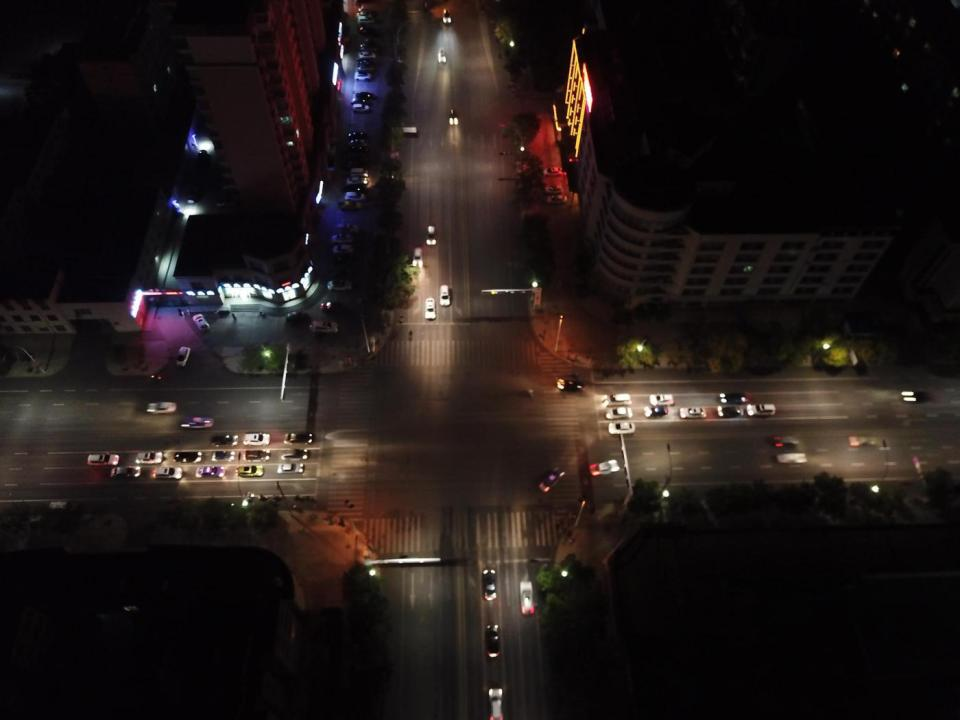car: (539, 467, 564, 492), (588, 459, 620, 476), (488, 688, 504, 720), (485, 624, 500, 658), (520, 581, 535, 615), (482, 568, 497, 600), (87, 452, 119, 465), (719, 392, 750, 405), (135, 451, 164, 464), (602, 393, 631, 406), (243, 432, 269, 446), (557, 378, 585, 391), (110, 466, 140, 478), (152, 467, 182, 479), (281, 449, 311, 461), (192, 312, 210, 332), (777, 452, 807, 464), (605, 406, 632, 419), (717, 405, 744, 418), (310, 321, 339, 333), (901, 391, 930, 403), (180, 417, 214, 427), (174, 451, 202, 463), (146, 402, 176, 413), (195, 466, 225, 477), (284, 433, 314, 444), (212, 434, 239, 446), (608, 422, 635, 434), (848, 436, 877, 447), (649, 393, 673, 406), (680, 407, 706, 419), (774, 436, 798, 449), (277, 463, 305, 474), (176, 345, 190, 367), (747, 404, 775, 415), (237, 466, 264, 477), (286, 311, 310, 323), (243, 450, 271, 460), (334, 223, 359, 234), (186, 186, 202, 203), (211, 450, 235, 461), (196, 150, 208, 172), (644, 406, 668, 417), (332, 244, 354, 255), (331, 233, 353, 244), (320, 301, 342, 312), (439, 284, 450, 306), (425, 298, 436, 320), (331, 257, 353, 268), (338, 200, 361, 210), (327, 281, 352, 290), (344, 192, 366, 202), (216, 190, 228, 207), (426, 225, 436, 245), (413, 247, 423, 267), (354, 71, 372, 82), (543, 167, 563, 176), (546, 195, 566, 204), (331, 271, 351, 280), (448, 109, 459, 125), (346, 177, 367, 185), (352, 103, 370, 112), (350, 168, 368, 177), (356, 91, 376, 99), (348, 138, 368, 146), (344, 184, 364, 192), (544, 186, 563, 194), (349, 146, 367, 154), (357, 65, 374, 73), (357, 18, 376, 25), (350, 97, 368, 104), (443, 9, 451, 24), (348, 132, 367, 138), (359, 27, 375, 34), (360, 44, 376, 51), (438, 49, 446, 62), (357, 11, 373, 17), (356, 58, 372, 64), (358, 52, 375, 57), (358, 6, 372, 12), (358, 14, 372, 20), (364, 38, 376, 44)
